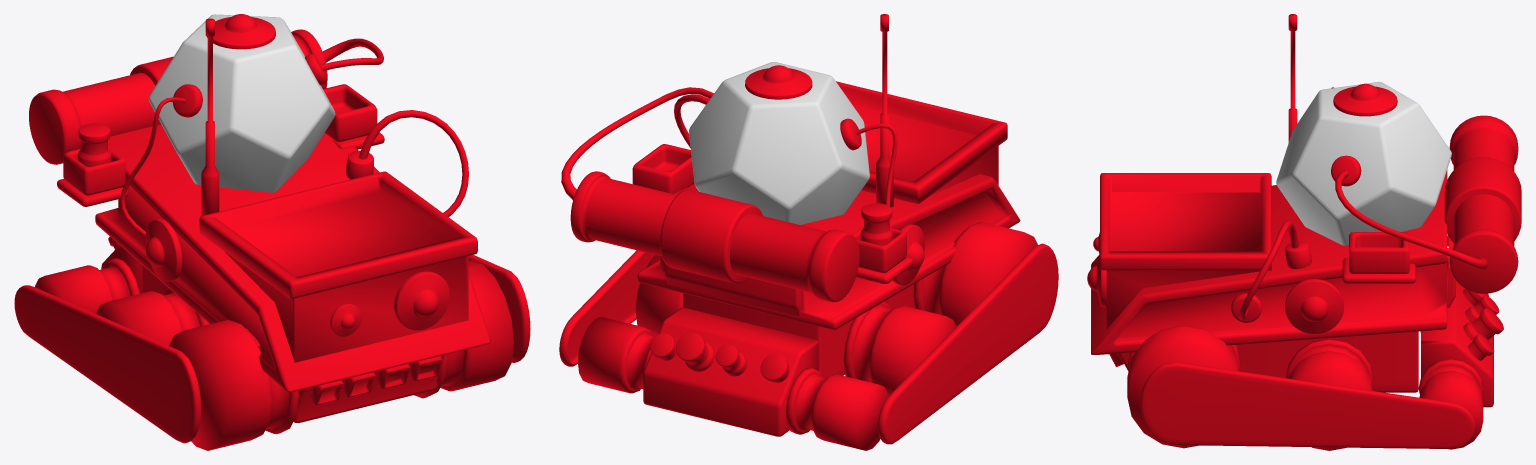
The model's file is Drobot_Low.fbx.
3 renders of one model, left to right at view 1: azimuth 30°, elevation 25°; view 2: azimuth 150°, elevation 25°; view 3: azimuth 270°, elevation 25°, orthographic. The views are drawn at different scales.
Visible parts, largest first — view 1: Z_Low, A_Low, J_Low, SM_DODECHAHEDRE_Low, I_Low, X_Low, B_Low, W_Low, K_Low, D_Low, E_Low, H_Low (+5 smaller); view 2: J_Low, SM_DODECHAHEDRE_Low, I_Low, X_Low, V_Low, A_Low, Z_Low, Y_Low, C_Low, W_Low, D_Low, G_Low (+5 smaller); view 3: A_Low, I_Low, Z_Low, SM_DODECHAHEDRE_Low, J_Low, X_Low, D_Low, B_Low, Y_Low, V_Low, K_Low, W_Low (+4 smaller).
Boxes of the visible parts, x1,y1,x2,y2 form: Z_Low: (199,171,477,362); A_Low: (95,124,490,392); J_Low: (35,258,513,450); SM_DODECHAHEDRE_Low: (148,14,335,192); I_Low: (14,255,530,443); X_Low: (29,29,327,164); B_Low: (145,14,449,336); W_Low: (63,84,377,195); K_Low: (120,38,468,236); D_Low: (142,265,444,423); E_Low: (310,356,442,405); H_Low: (201,18,219,215); J_Low: (578,222,1037,450); SM_DODECHAHEDRE_Low: (689,62,869,224); I_Low: (559,243,1058,444); X_Low: (570,171,859,302); V_Low: (643,307,818,436); A_Low: (637,174,1020,329); Z_Low: (836,81,1007,203); Y_Low: (660,189,762,283); C_Low: (650,203,892,382); W_Low: (632,144,906,273); D_Low: (683,284,914,378); G_Low: (665,264,801,315); A_Low: (1091,170,1447,354); I_Low: (1140,256,1475,448); Z_Low: (1100,173,1271,329); SM_DODECHAHEDRE_Low: (1276,82,1451,245); J_Low: (1127,262,1483,450); X_Low: (1449,115,1518,293); D_Low: (1118,331,1418,392); B_Low: (1087,83,1397,333); Y_Low: (1444,157,1521,242); V_Low: (1421,278,1493,407); K_Low: (1239,87,1487,320); W_Low: (1349,232,1409,273).
Bounding box in the file's own units: 87.5 × 90.95 × 106.
